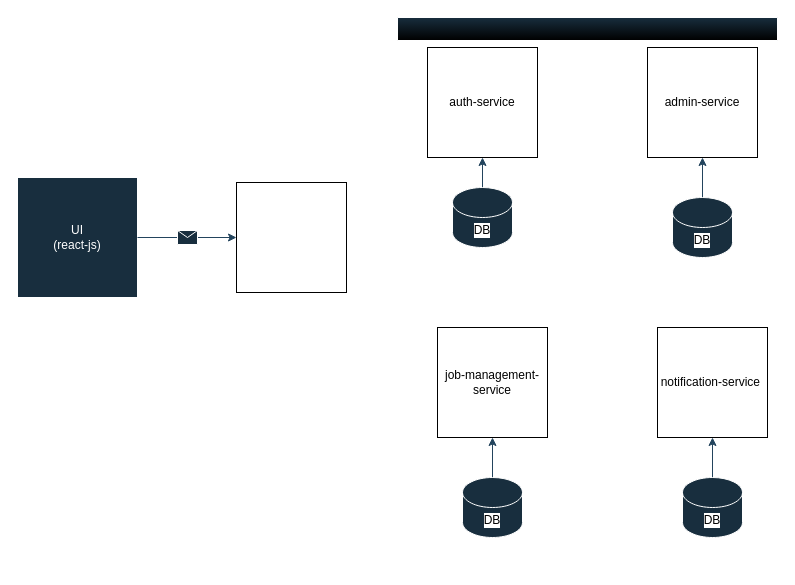
This 795x585 diagram has some shape labels left out. The box of each missing label's shape, as (x1, y1, x2, y2) in pixels:
api-gateway: (236, 182, 346, 292)
Backend Servies: (396, 16, 778, 568)
